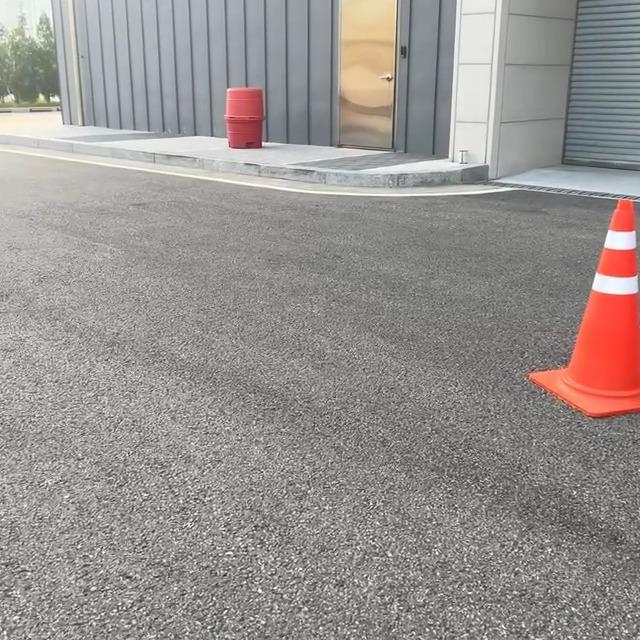fallen_object: (483, 160, 640, 544)
